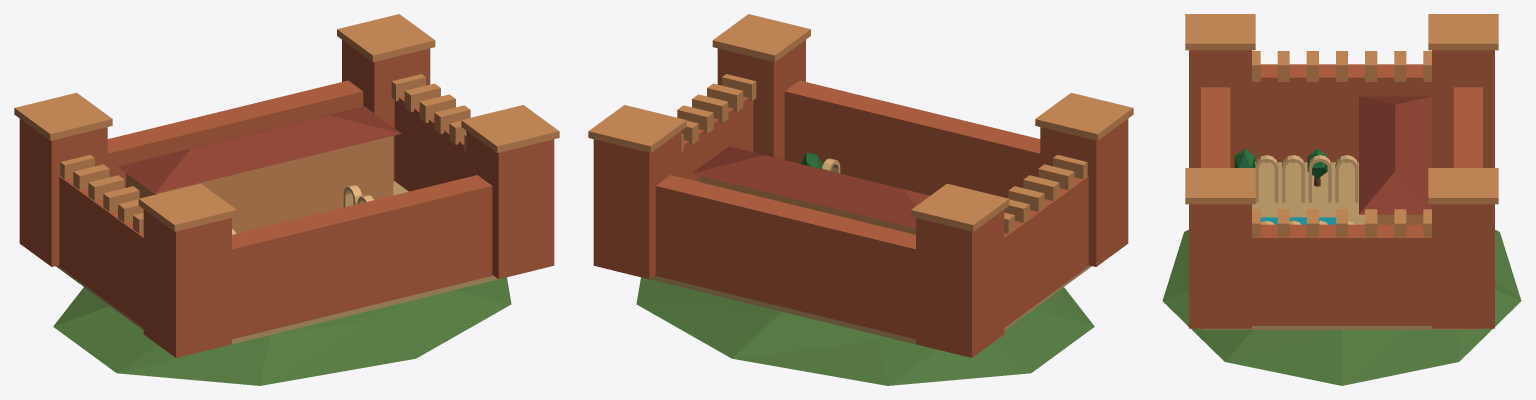
The model's file is alhambra.glb.
3 views of the same model, side by side, from view 1: azimuth 30°, elevation 25°; view 2: azimuth 150°, elevation 25°; view 3: azimuth 270°, elevation 25° (orthographic). The views are drawn at different scales.
Parts seen in each view (by area): view 1: body_B77B55, body_CD9B71, base_8B9071, roof_895E45, battlements_CD9B71, base_C2A27A; view 2: body_B77B55, base_8B9071, body_CD9B71, roof_895E45, battlements_CD9B71, base_C2A27A; view 3: body_B77B55, base_8B9071, body_CD9B71, roof_895E45, base_C2A27A, battlements_CD9B71, arcades_D5AC80, landscape_657F58, water_court_679C98.
Boxes of the visible parts, x1=… form: body_B77B55: x1=19, y1=40, x2=554, y2=357; body_CD9B71: x1=14, y1=14, x2=559, y2=233; base_8B9071: x1=53, y1=277, x2=511, y2=385; roof_895E45: x1=118, y1=106, x2=401, y2=193; battlements_CD9B71: x1=60, y1=74, x2=470, y2=233; base_C2A27A: x1=56, y1=181, x2=525, y2=350; body_B77B55: x1=593, y1=40, x2=1128, y2=357; base_8B9071: x1=636, y1=277, x2=1094, y2=385; body_CD9B71: x1=588, y1=14, x2=1133, y2=234; roof_895E45: x1=692, y1=146, x2=929, y2=228; battlements_CD9B71: x1=677, y1=74, x2=1087, y2=233; base_C2A27A: x1=622, y1=265, x2=1091, y2=350; body_B77B55: x1=1189, y1=50, x2=1494, y2=328; base_8B9071: x1=1162, y1=230, x2=1521, y2=385; body_CD9B71: x1=1185, y1=14, x2=1498, y2=224; roof_895E45: x1=1359, y1=96, x2=1431, y2=214; base_C2A27A: x1=1202, y1=162, x2=1481, y2=329; battlements_CD9B71: x1=1252, y1=51, x2=1431, y2=237; arcades_D5AC80: x1=1255, y1=155, x2=1358, y2=224; landscape_657F58: x1=1234, y1=148, x2=1327, y2=178; water_court_679C98: x1=1260, y1=217, x2=1335, y2=224.
Bounding box in the file's own units: 1 × 0.415 × 0.7616.
